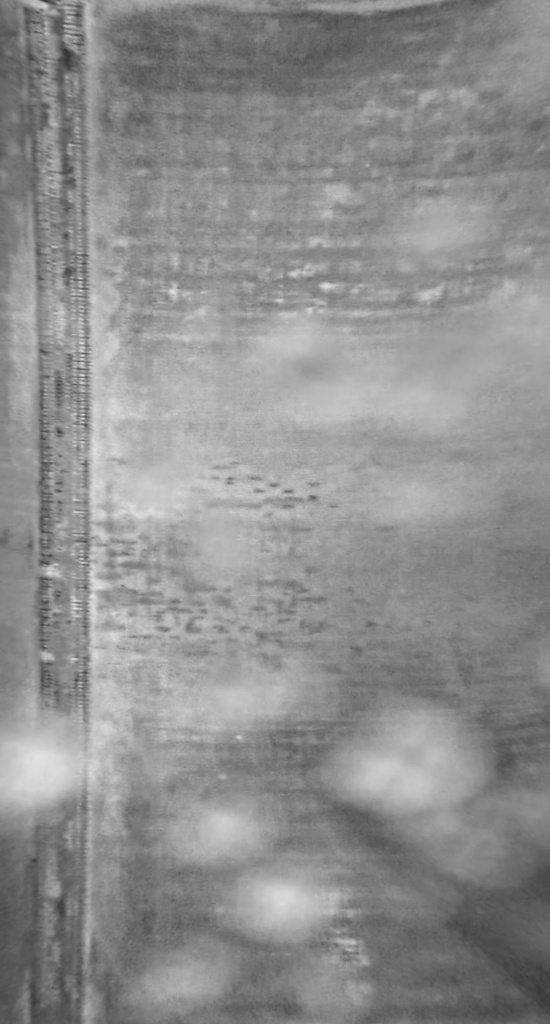splice: (11, 1, 108, 1024)
